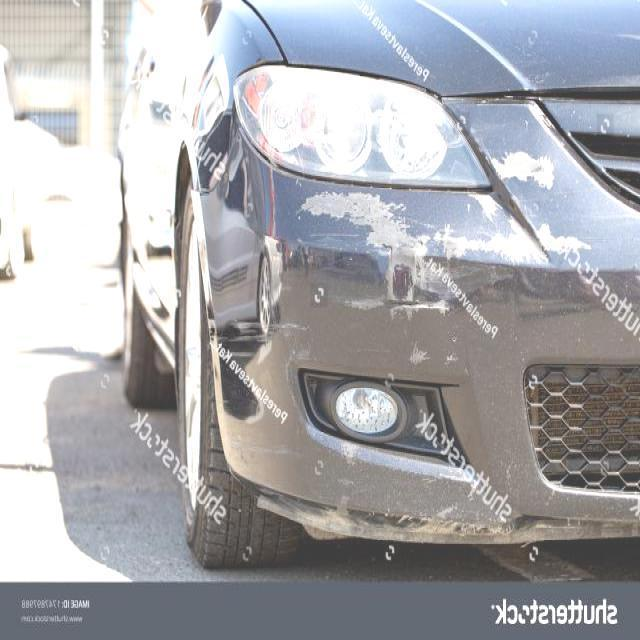minor: (344, 297, 449, 339)
moderate: (298, 151, 542, 301), (301, 193, 406, 240), (539, 227, 592, 268), (491, 152, 552, 187)
